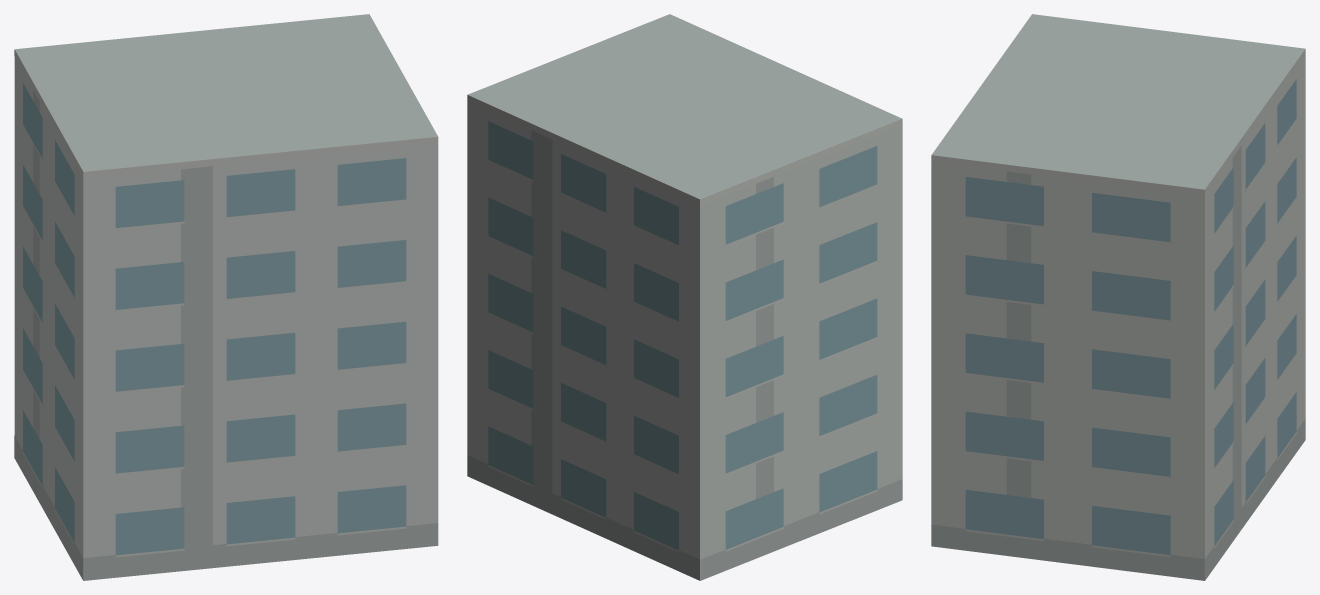
The model's file is survey-upis-32986788.glb.
3 views of the same model, side by side, from view 1: azimuth 30°, elevation 25°; view 2: azimuth 150°, elevation 25°; view 3: azimuth 270°, elevation 25° (orthographic). The views are drawn at different scales.
Visible parts, largest first — view 1: survey-upis-32986788.tmp; view 2: survey-upis-32986788.tmp; view 3: survey-upis-32986788.tmp.
Boxes of the visible parts, x1=… form: survey-upis-32986788.tmp: x1=14, y1=14, x2=438, y2=580; survey-upis-32986788.tmp: x1=467, y1=14, x2=902, y2=580; survey-upis-32986788.tmp: x1=931, y1=14, x2=1305, y2=580.
Size of the model in its own units: 13.59 by 14.1 by 12.24.
